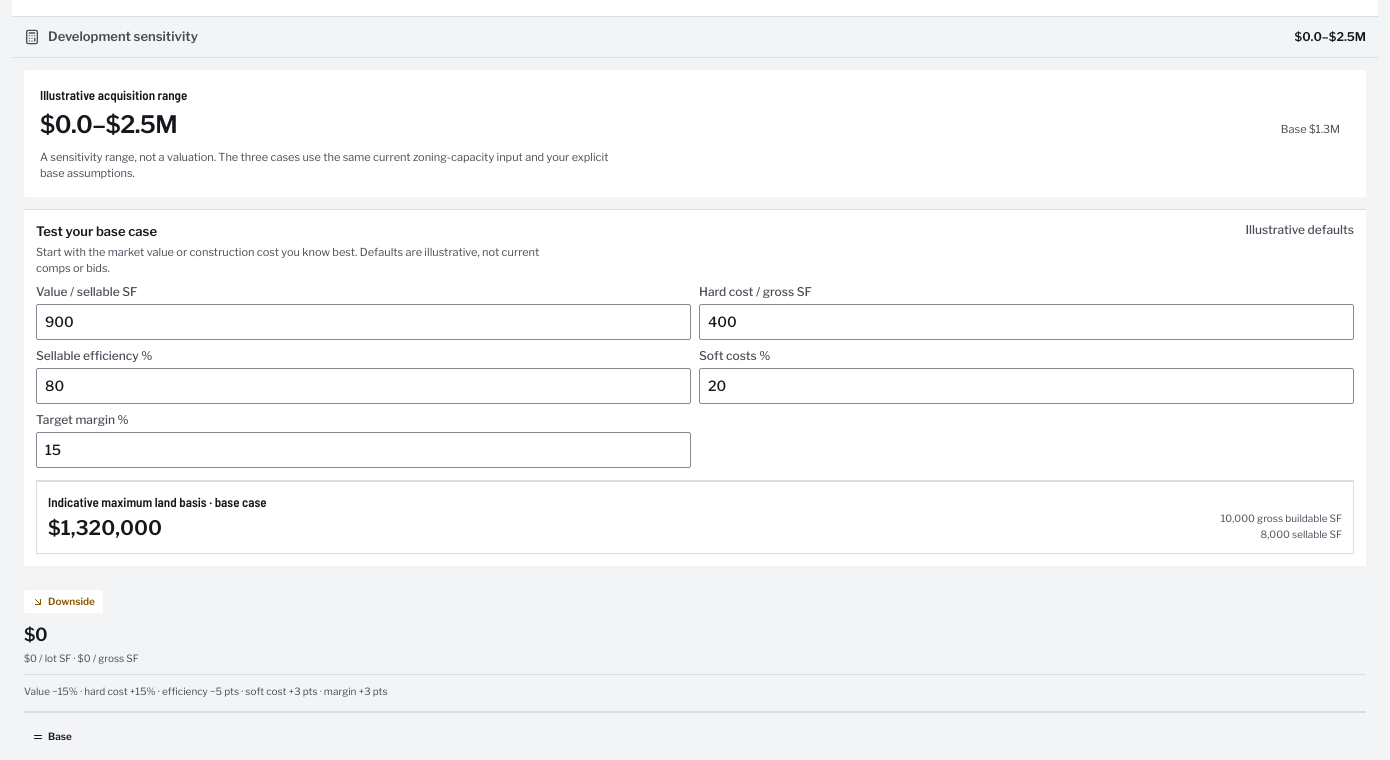
Scenario: LandBasisCalculator › shows an editable, transparent scenario comparison
The image size is (1390, 760).
Expected: the element with test id "land-basis-range" shows "Illustrative acquisition range", 40,86 -> 187,102
Expected: the element with test id "land-basis-scenario-downside" shows "Value −15%", 24,685 -> 388,697
Replace the text in the number field labelled "Value / sellable SF" with "1000" at {"x": 364, "y": 322}, box 36,304 -> 691,340
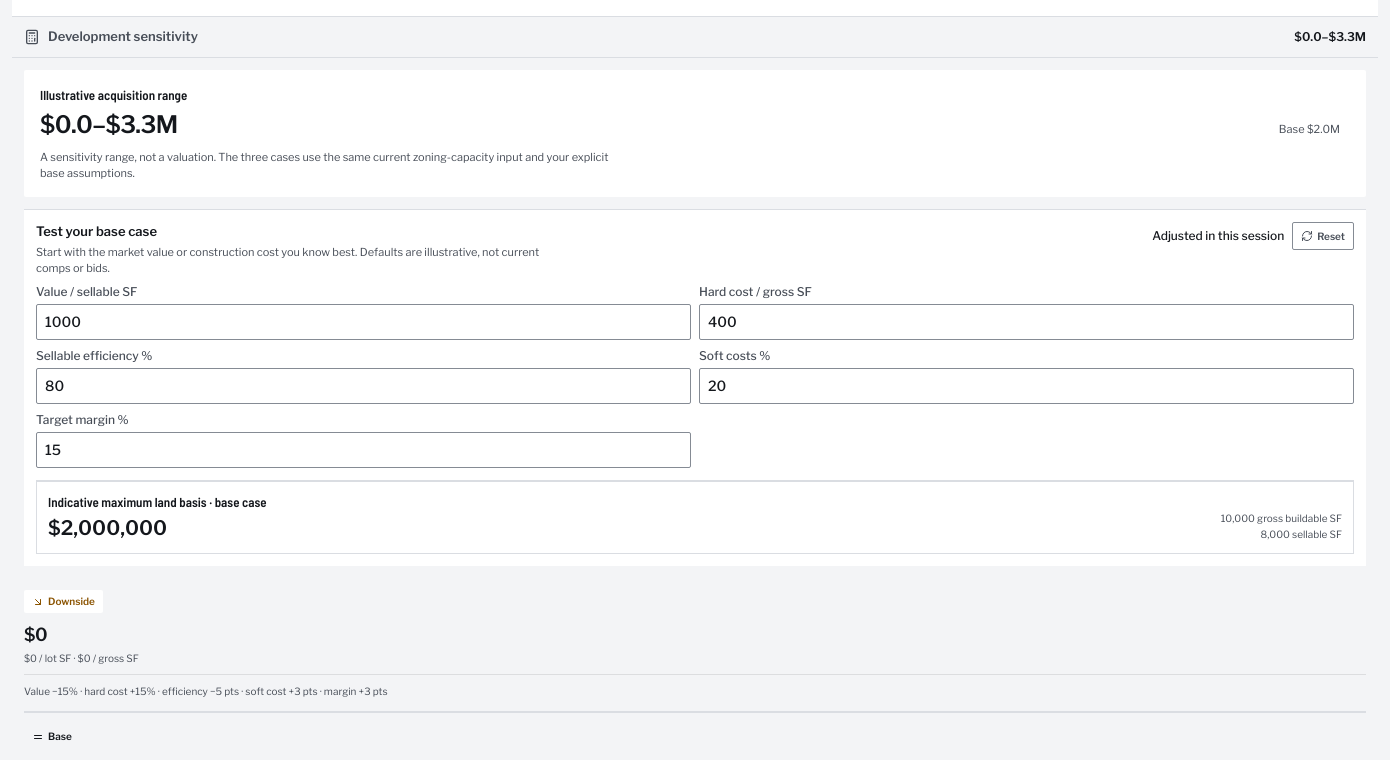
Expected: the text with test id "underwriting-assumption-state" reads "Adjusted in this session", 1152,228 -> 1284,243
Click the button "Reset" at {"x": 1323, "y": 236}, box 1292,222 -> 1354,250
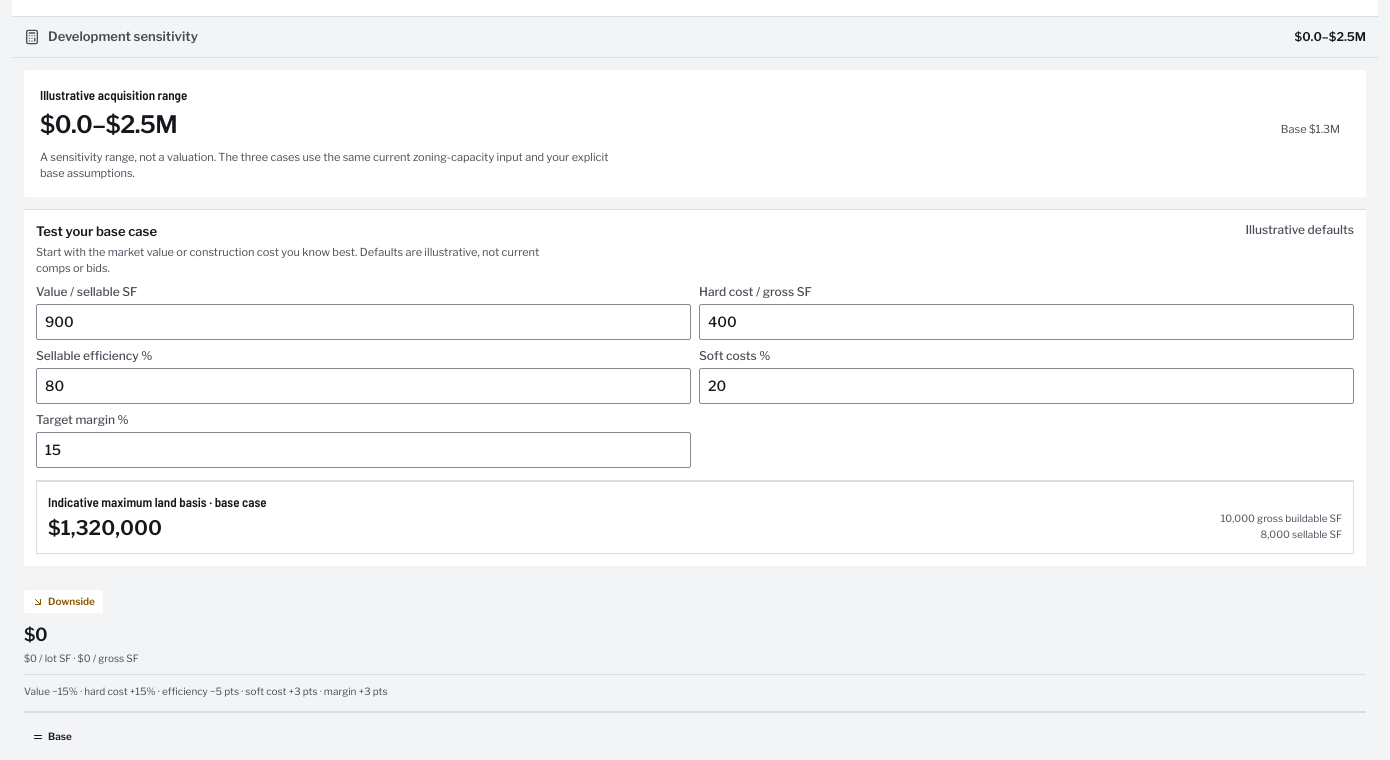
Expected: the number field labelled "Value / sellable SF" holds "900", 36,304 -> 691,340
Expected: the text with test id "underwriting-assumption-state" reads "Illustrative defaults", 1245,222 -> 1354,237
